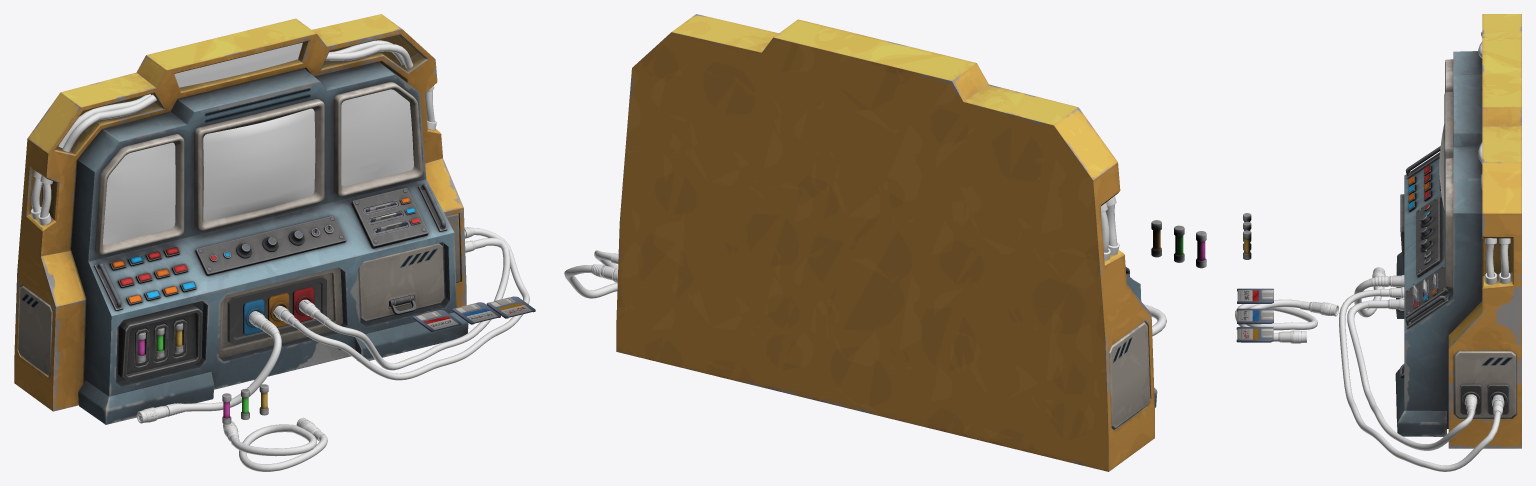
File: RoomControl.fbx
The picture shows the model from 3 angles, left to right: view 1: azimuth 30°, elevation 25°; view 2: azimuth 150°, elevation 25°; view 3: azimuth 270°, elevation 25°; orthographic projection. The views are drawn at different scales.
Parts seen in each view (by area): view 1: SM_RoomControl, SM_FrequnceyPuzzle.002, Wire Studio • Cable.002, SM_MissedCaple, SM_Caple, SM_DiskCartridge_03, SM_DiskCartridge_01, SM_DiskCartridge_02; view 2: SM_RoomControl, Wire Studio • Cable.002, SM_MissedCaple; view 3: SM_RoomControl, Wire Studio • Cable.002, SM_FrequnceyPuzzle.002, SM_MissedCaple, SM_Caple, SM_DiskCartridge_01, SM_DiskCartridge_03, SM_DiskCartridge_02.
Boxes of the visible parts, bbox=[...] form: SM_RoomControl: bbox=[14, 14, 468, 424]; SM_FrequnceyPuzzle.002: bbox=[94, 184, 447, 310]; Wire Studio • Cable.002: bbox=[30, 40, 510, 423]; SM_MissedCaple: bbox=[273, 227, 529, 380]; SM_Caple: bbox=[223, 417, 327, 471]; SM_DiskCartridge_03: bbox=[486, 296, 535, 318]; SM_DiskCartridge_01: bbox=[452, 302, 500, 324]; SM_DiskCartridge_02: bbox=[412, 310, 461, 331]; SM_RoomControl: bbox=[616, 14, 1157, 471]; Wire Studio • Cable.002: bbox=[594, 196, 1119, 267]; SM_MissedCaple: bbox=[564, 264, 618, 298]; SM_RoomControl: bbox=[1395, 14, 1521, 448]; Wire Studio • Cable.002: bbox=[1347, 32, 1510, 450]; SM_FrequnceyPuzzle.002: bbox=[1405, 146, 1448, 328]; SM_MissedCaple: bbox=[1339, 287, 1504, 471]; SM_Caple: bbox=[1235, 299, 1338, 343]; SM_DiskCartridge_01: bbox=[1237, 308, 1273, 324]; SM_DiskCartridge_03: bbox=[1236, 327, 1273, 342]; SM_DiskCartridge_02: bbox=[1237, 288, 1273, 303].
Bounding box in the file's own units: 196 × 120 × 108.
